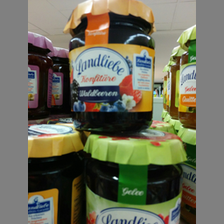jam: (68, 1, 156, 135), (86, 134, 184, 224), (27, 123, 85, 224)
